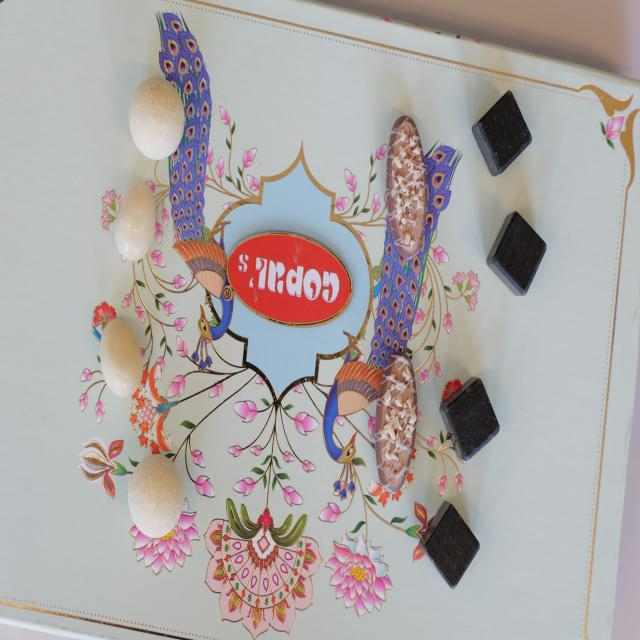Amandina: (386, 116, 428, 258), (377, 349, 418, 491)
Comtesse: (128, 75, 186, 159), (128, 454, 182, 538)
Jelly_White: (116, 184, 156, 262), (102, 321, 143, 396)
